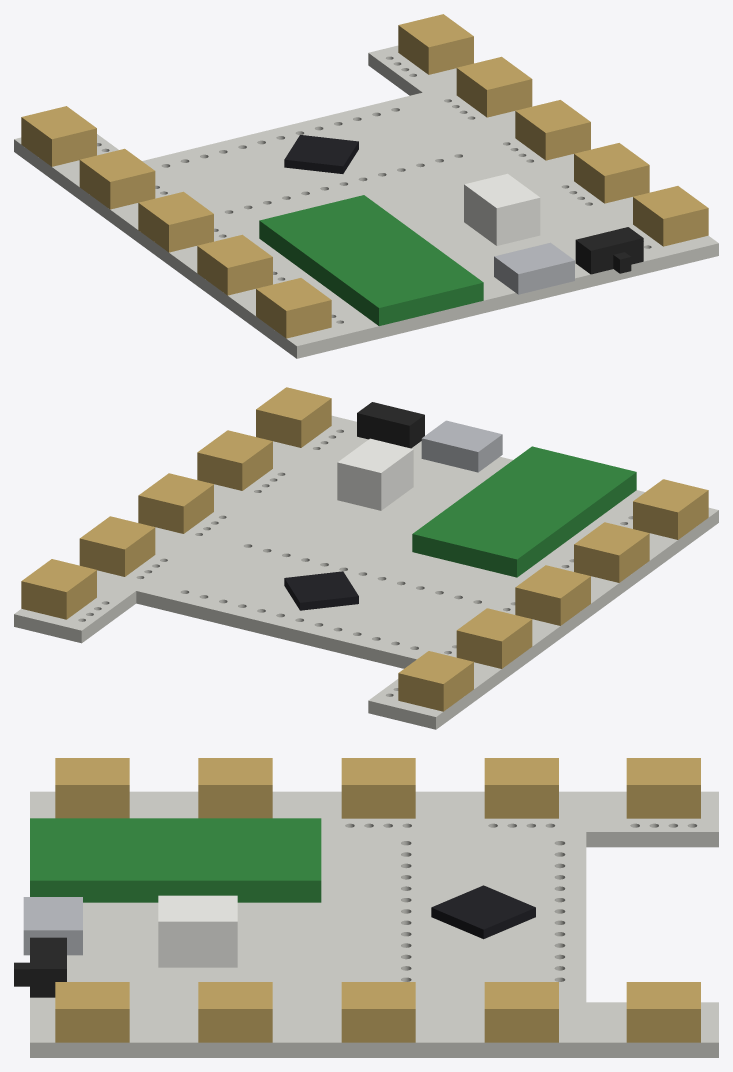
The model's file is core.mo.glb.
The picture shows the model from 3 angles, top to bottom: view 1: azimuth 30°, elevation 25°; view 2: azimuth 150°, elevation 25°; view 3: azimuth 270°, elevation 25°; orthographic projection. The views are drawn at different scales.
Visible parts, largest first — view 1: pcb, uce6_sockets, bt_module, bat_jst, micro_usb, switch, mcu; view 2: pcb, uce6_sockets, bt_module, bat_jst, micro_usb, switch, mcu; view 3: pcb, uce6_sockets, bt_module, bat_jst, mcu, micro_usb, switch.
Part boxes in pixels (x1=…): pcb: x1=14, y1=45, x2=718, y2=358; uce6_sockets: x1=21, y1=14, x2=708, y2=338; bt_module: x1=259, y1=195, x2=483, y2=325; bat_jst: x1=464, y1=173, x2=540, y2=245; micro_usb: x1=494, y1=242, x2=574, y2=294; switch: x1=575, y1=227, x2=643, y2=274; mcu: x1=284, y1=135, x2=358, y2=173; pcb: x1=14, y1=415, x2=718, y2=729; uce6_sockets: x1=21, y1=387, x2=708, y2=711; bt_module: x1=412, y1=446, x2=636, y2=577; bat_jst: x1=337, y1=438, x2=413, y2=510; micro_usb: x1=421, y1=420, x2=502, y2=472; switch: x1=357, y1=402, x2=424, y2=448; mcu: x1=284, y1=571, x2=358, y2=610; pcb: x1=30, y1=791, x2=718, y2=1057; uce6_sockets: x1=55, y1=758, x2=700, y2=1042; bt_module: x1=30, y1=818, x2=321, y2=902; bat_jst: x1=158, y1=895, x2=237, y2=967; mcu: x1=431, y1=885, x2=535, y2=939; micro_usb: x1=23, y1=897, x2=82, y2=955; switch: x1=14, y1=937, x2=66, y2=997.
Bounding box in the file's own units: 0.056 × 0.0064 × 0.0665.
